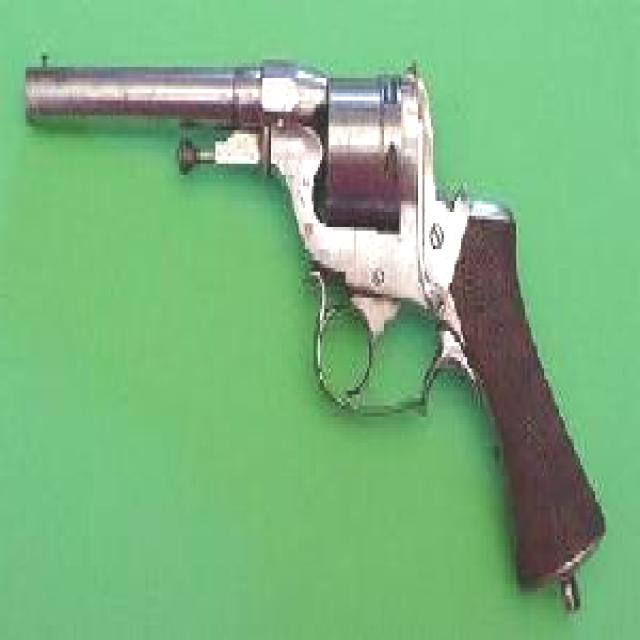pistol: (28, 44, 610, 592)
